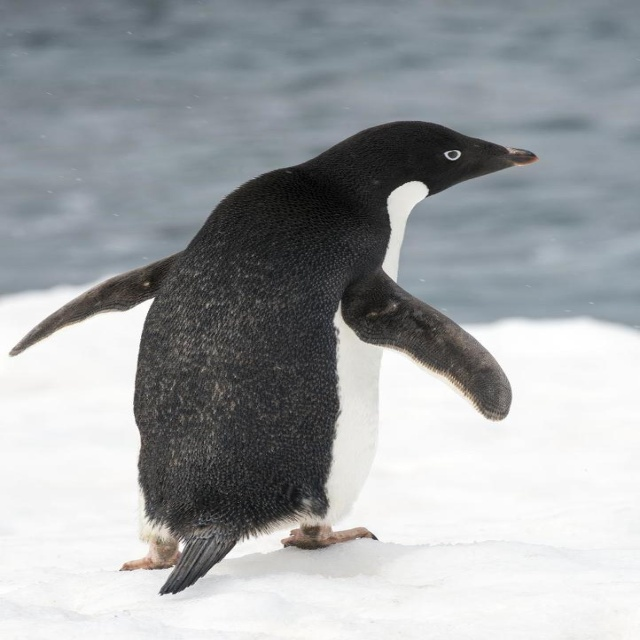Penguin: (11, 120, 541, 597)
